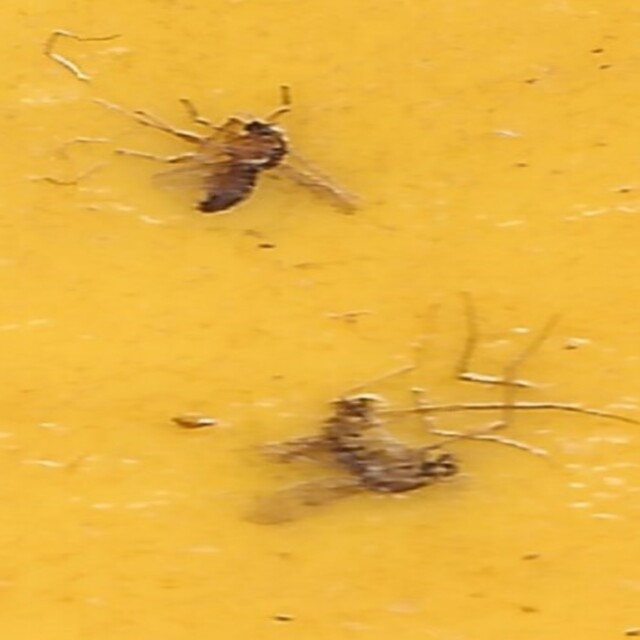Nematocera: (240, 388, 456, 529), (184, 111, 338, 218)
